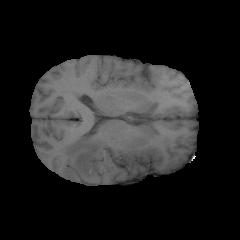glioma: (60, 134, 107, 180)
